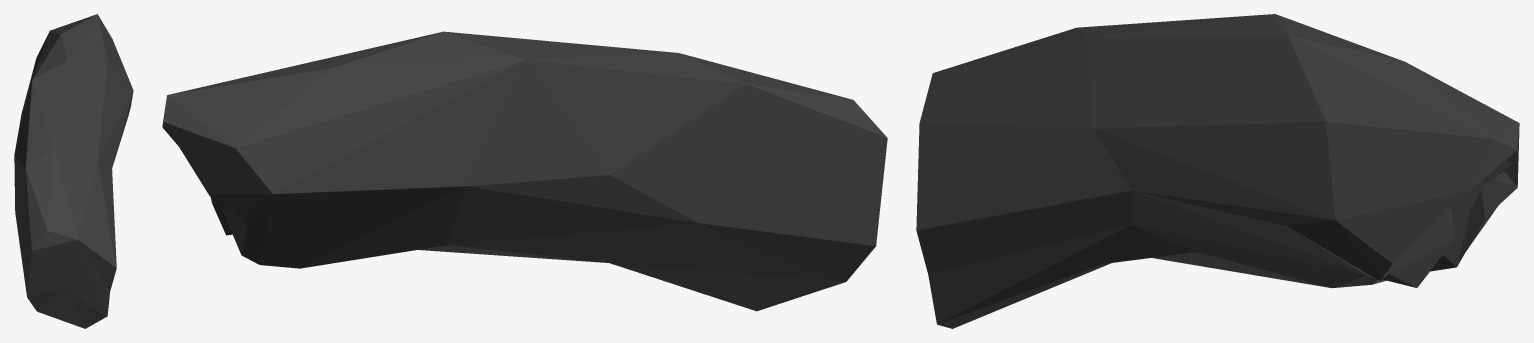
3 renders of one model, left to right at view 1: azimuth 30°, elevation 25°; view 2: azimuth 150°, elevation 25°; view 3: azimuth 270°, elevation 25°, orthographic. The views are drawn at different scales.
Parts seen in each view (by area): view 1: world; view 2: world; view 3: world.
Part boxes in pixels (x1,y1,x2,y2): world: (14,14,133,328); world: (162,31,887,311); world: (916,14,1519,328).
Size of the model in its own units: 0.3165 by 0.2549 by 0.3888.
1 material, 1 textured.
